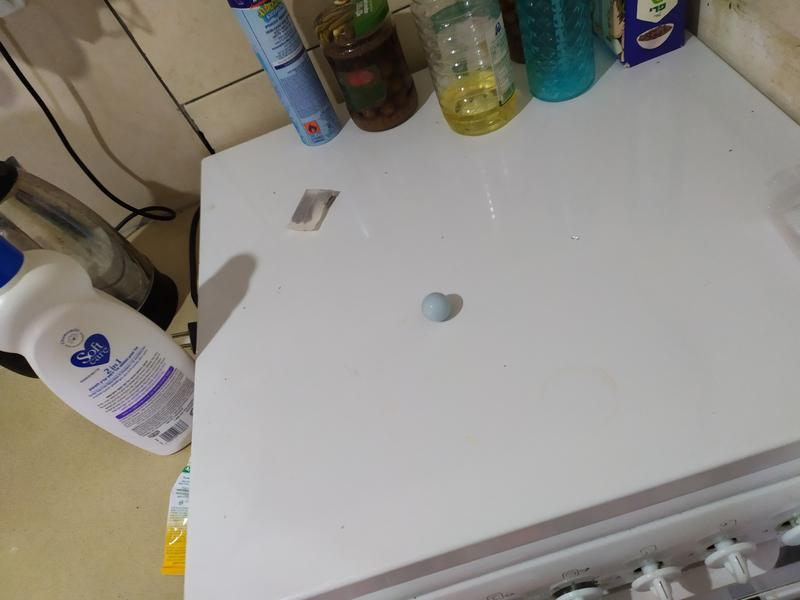Warning: (419, 290, 454, 323)
